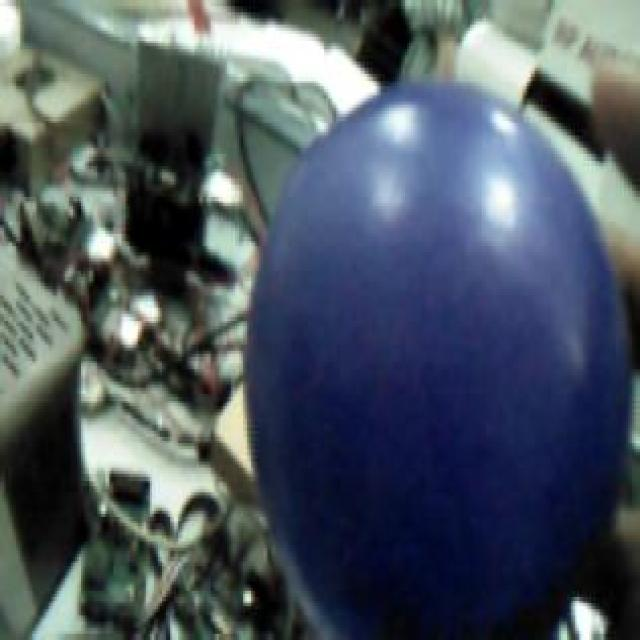BallPurple: (243, 83, 626, 640)
